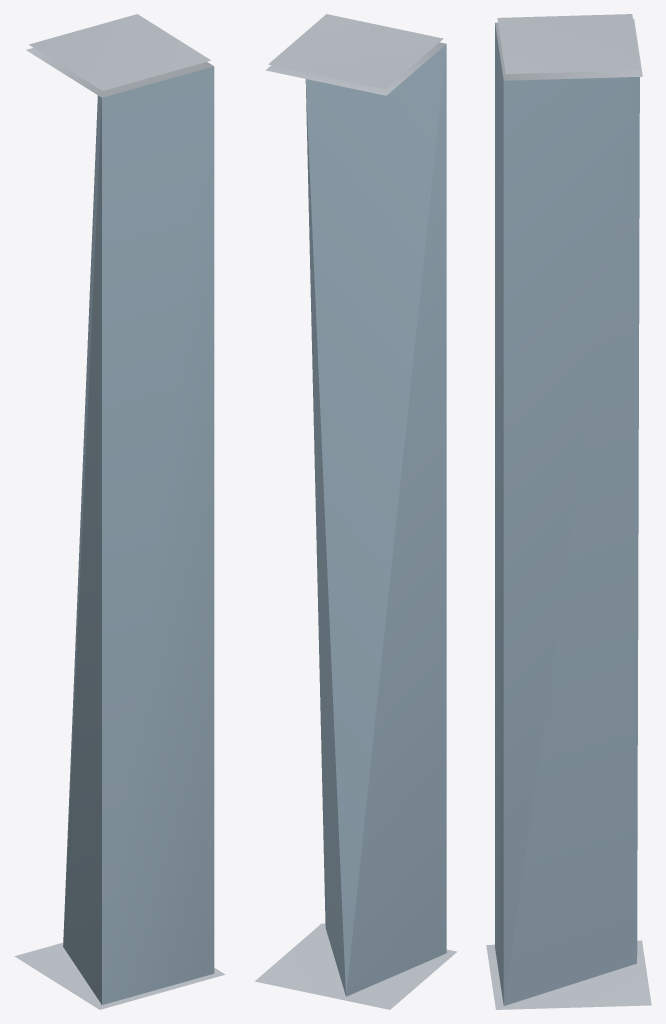
File: tower_01_lod1.glb
The picture shows the model from 3 angles, left to right: view 1: azimuth 30°, elevation 25°; view 2: azimuth 150°, elevation 25°; view 3: azimuth 270°, elevation 25°; orthographic projection.
Visible parts, largest first — view 1: tower_01_lod1; view 2: tower_01_lod1; view 3: tower_01_lod1.
Boxes of the visible parts, x1,y1,x2,y2 form: tower_01_lod1: (14, 14, 224, 1009); tower_01_lod1: (254, 14, 456, 1009); tower_01_lod1: (486, 14, 651, 1009).
Size of the model in its own units: 52.73 by 329 by 53.03.
